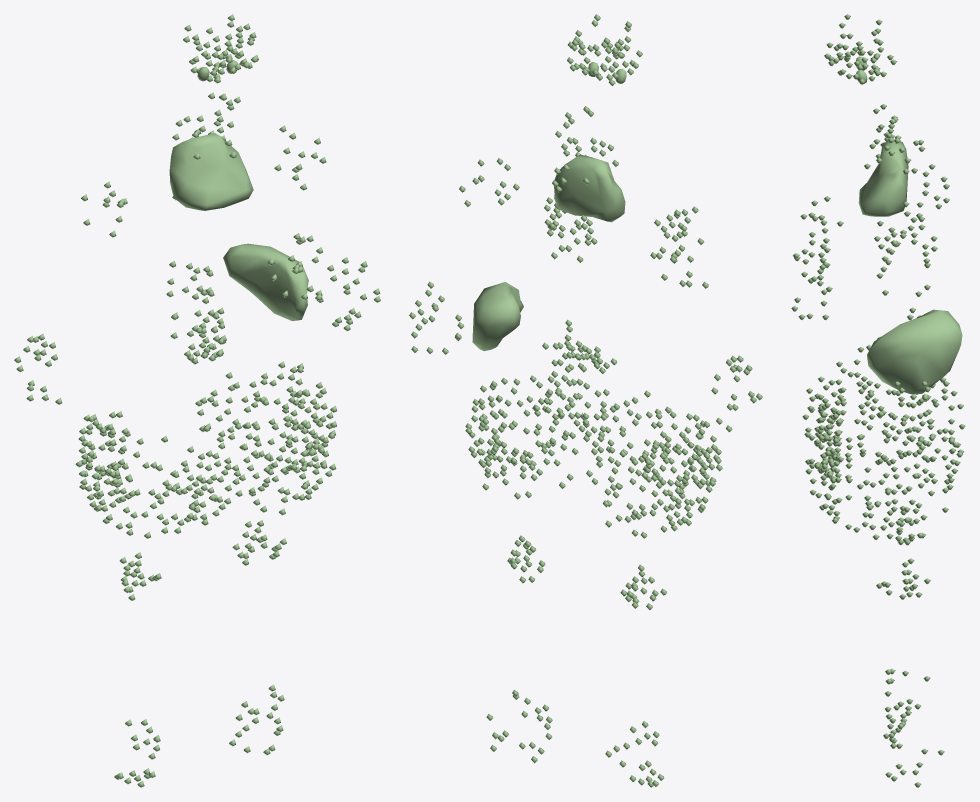
Rendered from pediatric_infant_female.lymphatic.LOD2.glb.
3 renders of one model, left to right at view 1: azimuth 30°, elevation 25°; view 2: azimuth 150°, elevation 25°; view 3: azimuth 270°, elevation 25°, orthographic. The views are drawn at different scales.
Parts seen in each view (by area): view 1: PEDIATRIC.INFANT.FEMALE.LYMPHATIC.LYMPHATIC_NODES_TRUNK, PEDIATRIC.INFANT.FEMALE.LYMPHATIC.THYMUS, PEDIATRIC.INFANT.FEMALE.LYMPHATIC.SPLEEN, PEDIATRIC.INFANT.FEMALE.LYMPHATIC.LYMPHATIC_NODES_ET, PEDIATRIC.INFANT.FEMALE.LYMPHATIC.LYMPHATIC_NODES_ARMS, PEDIATRIC.INFANT.FEMALE.LYMPHATIC.LYMPHATIC_NODES_LEGS, PEDIATRIC.INFANT.FEMALE.LYMPHATIC.LYMPHATIC_NODES_THORACIC, PEDIATRIC.INFANT.FEMALE.LYMPHATIC.LYMPHATIC_NODES_HEAD; view 2: PEDIATRIC.INFANT.FEMALE.LYMPHATIC.LYMPHATIC_NODES_TRUNK, PEDIATRIC.INFANT.FEMALE.LYMPHATIC.THYMUS, PEDIATRIC.INFANT.FEMALE.LYMPHATIC.SPLEEN, PEDIATRIC.INFANT.FEMALE.LYMPHATIC.LYMPHATIC_NODES_THORACIC, PEDIATRIC.INFANT.FEMALE.LYMPHATIC.LYMPHATIC_NODES_ET, PEDIATRIC.INFANT.FEMALE.LYMPHATIC.LYMPHATIC_NODES_LEGS, PEDIATRIC.INFANT.FEMALE.LYMPHATIC.LYMPHATIC_NODES_ARMS; view 3: PEDIATRIC.INFANT.FEMALE.LYMPHATIC.LYMPHATIC_NODES_TRUNK, PEDIATRIC.INFANT.FEMALE.LYMPHATIC.SPLEEN, PEDIATRIC.INFANT.FEMALE.LYMPHATIC.THYMUS, PEDIATRIC.INFANT.FEMALE.LYMPHATIC.LYMPHATIC_NODES_ET, PEDIATRIC.INFANT.FEMALE.LYMPHATIC.LYMPHATIC_NODES_LEGS, PEDIATRIC.INFANT.FEMALE.LYMPHATIC.LYMPHATIC_NODES_ARMS, PEDIATRIC.INFANT.FEMALE.LYMPHATIC.LYMPHATIC_NODES_THORACIC, PEDIATRIC.INFANT.FEMALE.LYMPHATIC.LYMPHATIC_NODES_HEAD.
Boxes of the visible parts, x1,y1,x2,y2 form: PEDIATRIC.INFANT.FEMALE.LYMPHATIC.LYMPHATIC_NODES_TRUNK: (75, 125, 336, 600); PEDIATRIC.INFANT.FEMALE.LYMPHATIC.THYMUS: (169, 133, 253, 210); PEDIATRIC.INFANT.FEMALE.LYMPHATIC.SPLEEN: (223, 243, 308, 320); PEDIATRIC.INFANT.FEMALE.LYMPHATIC.LYMPHATIC_NODES_ET: (183, 14, 258, 83); PEDIATRIC.INFANT.FEMALE.LYMPHATIC.LYMPHATIC_NODES_ARMS: (14, 257, 380, 404); PEDIATRIC.INFANT.FEMALE.LYMPHATIC.LYMPHATIC_NODES_LEGS: (114, 684, 284, 787); PEDIATRIC.INFANT.FEMALE.LYMPHATIC.LYMPHATIC_NODES_THORACIC: (172, 129, 226, 364); PEDIATRIC.INFANT.FEMALE.LYMPHATIC.LYMPHATIC_NODES_HEAD: (175, 92, 240, 159); PEDIATRIC.INFANT.FEMALE.LYMPHATIC.LYMPHATIC_NODES_TRUNK: (459, 158, 722, 610); PEDIATRIC.INFANT.FEMALE.LYMPHATIC.THYMUS: (554, 154, 625, 222); PEDIATRIC.INFANT.FEMALE.LYMPHATIC.SPLEEN: (472, 282, 523, 351); PEDIATRIC.INFANT.FEMALE.LYMPHATIC.LYMPHATIC_NODES_THORACIC: (542, 164, 617, 373); PEDIATRIC.INFANT.FEMALE.LYMPHATIC.LYMPHATIC_NODES_ET: (567, 14, 642, 86); PEDIATRIC.INFANT.FEMALE.LYMPHATIC.LYMPHATIC_NODES_LEGS: (486, 689, 664, 787); PEDIATRIC.INFANT.FEMALE.LYMPHATIC.LYMPHATIC_NODES_ARMS: (409, 281, 762, 432); PEDIATRIC.INFANT.FEMALE.LYMPHATIC.LYMPHATIC_NODES_TRUNK: (791, 127, 965, 599); PEDIATRIC.INFANT.FEMALE.LYMPHATIC.SPLEEN: (867, 309, 962, 394); PEDIATRIC.INFANT.FEMALE.LYMPHATIC.THYMUS: (858, 141, 908, 216); PEDIATRIC.INFANT.FEMALE.LYMPHATIC.LYMPHATIC_NODES_ET: (824, 14, 896, 84); PEDIATRIC.INFANT.FEMALE.LYMPHATIC.LYMPHATIC_NODES_LEGS: (883, 668, 944, 787); PEDIATRIC.INFANT.FEMALE.LYMPHATIC.LYMPHATIC_NODES_ARMS: (876, 229, 933, 446); PEDIATRIC.INFANT.FEMALE.LYMPHATIC.LYMPHATIC_NODES_THORACIC: (866, 146, 949, 350); PEDIATRIC.INFANT.FEMALE.LYMPHATIC.LYMPHATIC_NODES_HEAD: (864, 104, 905, 169).
Size of the model in its own units: 0.253 by 0.5144 by 0.1113.
